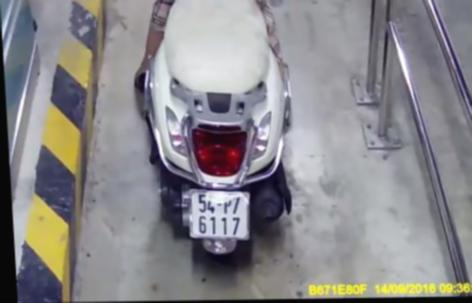License_Plate: (186, 185, 260, 248)
